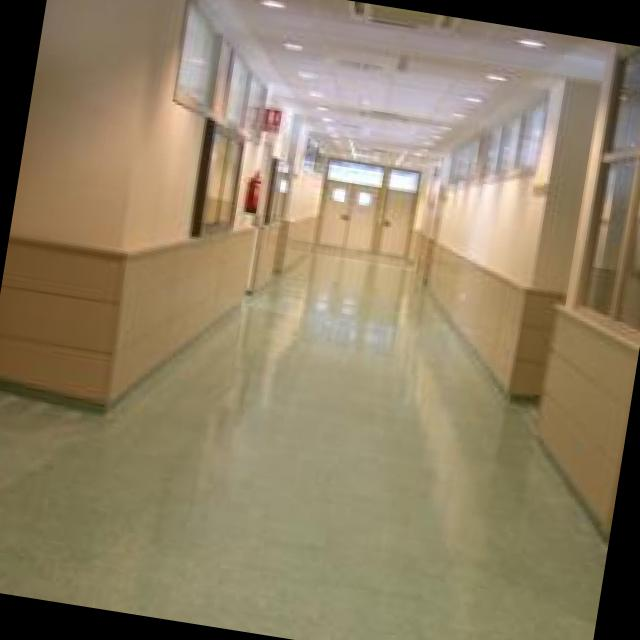2001: (565, 50, 640, 348), (438, 93, 548, 197), (170, 0, 227, 118), (220, 43, 251, 130), (327, 157, 382, 185), (387, 167, 417, 191), (356, 187, 371, 206), (329, 185, 344, 200)
ceiling beam: (233, 0, 587, 170)
ceiling vent: (506, 33, 553, 51), (478, 70, 510, 85), (278, 38, 305, 54), (253, 0, 292, 11)
door bars: (316, 179, 379, 257), (370, 188, 414, 265)
floor -X: (0, 253, 606, 640)
frame: (192, 117, 246, 234)
object: (241, 168, 262, 214)
sign: (254, 103, 283, 133)
vent -x: (350, 3, 454, 37)
wall clock: (108, 0, 322, 413), (409, 60, 566, 404), (504, 39, 610, 405), (535, 307, 639, 540)
